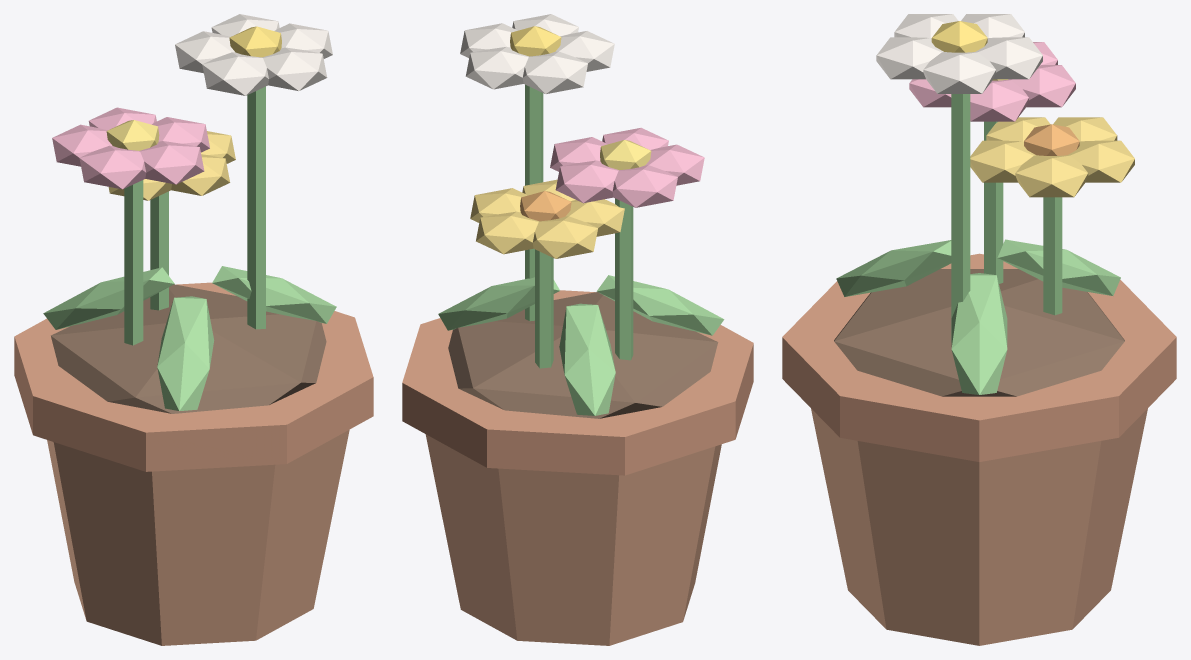
The model's file is Home_Pot.fbx.
3 views of the same model, side by side, from view 1: azimuth 30°, elevation 25°; view 2: azimuth 150°, elevation 25°; view 3: azimuth 270°, elevation 25° (orthographic). The views are drawn at different scales.
Visible parts, largest first — view 1: Pot, Rim, Soil, Leaf.002, Stem.001, Stem, Leaf.001, Leaf, Petal.003, Petal.008, Petal.004, Petal.009 (+12 smaller); view 2: Pot, Rim, Soil, Leaf.001, Leaf.002, Leaf, Stem, Stem.001, Petal.007, Petal.002, Petal.012, Stem.002 (+14 smaller); view 3: Pot, Rim, Soil, Leaf, Stem.001, Leaf.002, Leaf.001, Petal.010, Petal.005, Stem.002, Petal.006, Petal.009 (+12 smaller).
Part boxes in pixels (x1,y1,x2,y2): Pot: (47,429,349,645); Rim: (14,282,373,471); Soil: (51,284,326,413); Leaf.002: (157,296,214,410); Stem.001: (247,86,265,329); Stem: (124,180,143,345); Leaf.001: (43,267,174,329); Leaf: (212,266,336,323); Petal.003: (79,145,146,189); Petal.008: (202,52,268,95); Petal.004: (140,141,204,184); Petal.009: (262,47,327,90); Pot: (425,434,721,645); Rim: (402,290,753,475); Soil: (448,292,718,418); Leaf.001: (559,303,615,415); Leaf.002: (596,275,724,335); Leaf: (438,277,559,330); Stem: (615,198,633,360); Stem.001: (525,84,543,321); Petal.007: (522,51,587,93); Petal.002: (612,165,677,207); Petal.012: (532,216,597,258); Stem.002: (535,249,553,368); Pot: (811,408,1147,645); Rim: (782,253,1176,461); Soil: (834,269,1124,396); Leaf: (951,273,1007,394); Stem.001: (951,94,970,342); Leaf.002: (836,240,951,296); Leaf.001: (997,239,1120,295); Petal.010: (1015,155,1088,197); Petal.005: (923,52,995,93); Stem.002: (1043,197,1062,315); Petal.006: (975,37,1042,79); Petal.009: (876,37,943,79).
Size of the model in its own units: 0.6 by 1 by 0.6.
